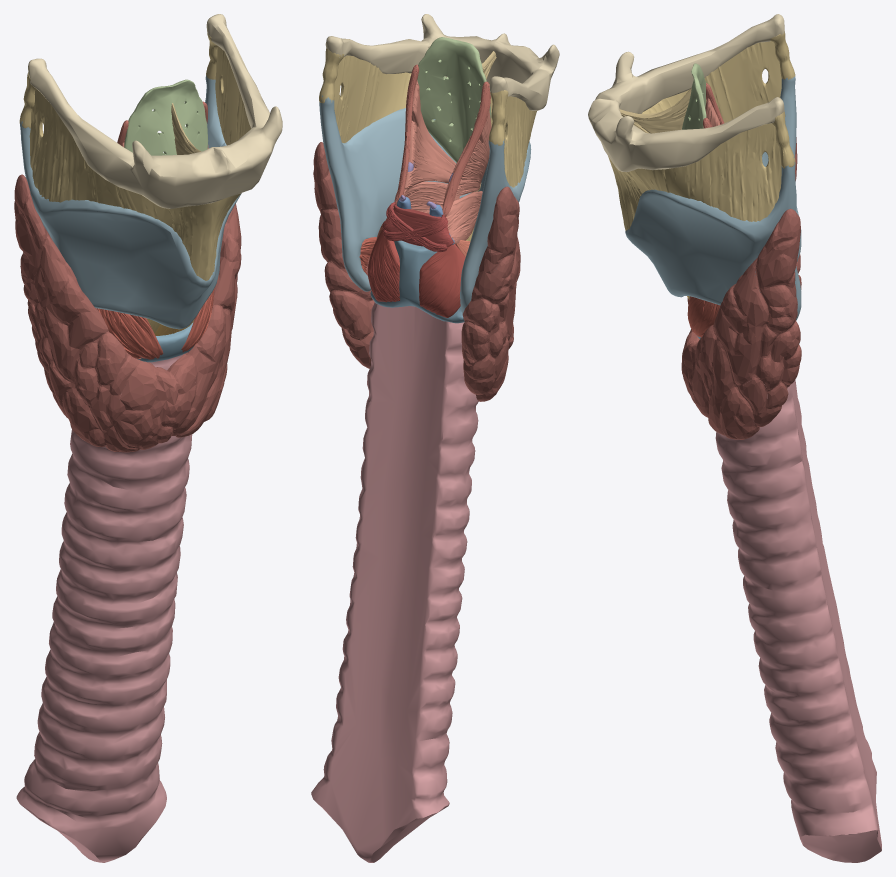
The model's file is larynx.glb.
3 renders of one model, left to right at view 1: azimuth 30°, elevation 25°; view 2: azimuth 150°, elevation 25°; view 3: azimuth 270°, elevation 25°, orthographic. The views are drawn at different scales.
Parts seen in each view (by area): view 1: trachea, thyroid-gland, thyroid-cartilage, hyoid-bone, thyrohyoid-membrane, epiglottis, cricothyroid-muscle, cricoid-cartilage, epiglottic-ligaments; view 2: trachea, thyroid-gland, thyroid-cartilage, thyrohyoid-membrane, hyoid-bone, epiglottis, thyro-arytenoid, posterior-crico-arytenoid, arytenoid-muscles, aryepiglottic-muscle, cricoid-cartilage; view 3: trachea, thyroid-gland, thyrohyoid-membrane, thyroid-cartilage, hyoid-bone, epiglottic-ligaments, epiglottis, cricothyroid-muscle.
Part boxes in pixels (x1,y1,x2,y2): trachea: (16, 347, 195, 862); thyroid-gland: (14, 174, 241, 452); thyroid-cartilage: (20, 75, 241, 329); hyoid-bone: (28, 14, 282, 208); thyrohyoid-membrane: (19, 33, 251, 280); epiglottis: (124, 79, 208, 155); cricothyroid-muscle: (97, 288, 214, 359); cricoid-cartilage: (137, 322, 194, 362); epiglottic-ligaments: (171, 103, 201, 154); trachea: (311, 302, 478, 862); thyroid-gland: (313, 142, 520, 401); thyroid-cartilage: (319, 95, 531, 313); thyrohyoid-membrane: (319, 48, 536, 187); hyoid-bone: (325, 14, 559, 110); epiglottis: (417, 37, 491, 162); thyro-arytenoid: (386, 80, 491, 243); posterior-crico-arytenoid: (367, 230, 465, 317); arytenoid-muscles: (382, 202, 453, 251); aryepiglottic-muscle: (394, 64, 490, 216); cricoid-cartilage: (370, 240, 464, 323); trachea: (715, 380, 881, 862); thyroid-gland: (681, 137, 801, 439); thyrohyoid-membrane: (608, 31, 795, 230); thyroid-cartilage: (625, 76, 801, 320); hyoid-bone: (588, 14, 784, 172); epiglottic-ligaments: (619, 88, 691, 133); epiglottis: (682, 63, 706, 129); cricothyroid-muscle: (687, 296, 768, 338).
Size of the model in its own units: 0.6592 by 2.49 by 0.8261.
